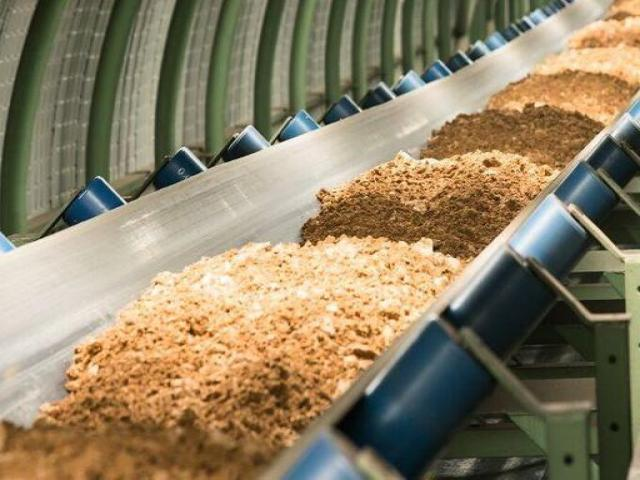conveyor: (1, 9, 640, 480)
